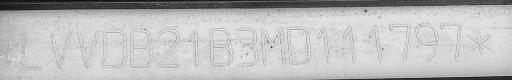letter: (128, 27, 156, 70), (256, 26, 286, 66), (20, 26, 46, 72), (207, 26, 235, 68), (100, 27, 128, 69), (412, 21, 440, 62), (285, 23, 313, 64), (232, 24, 258, 67), (156, 26, 182, 69), (75, 28, 101, 70), (439, 20, 465, 62), (48, 28, 74, 69), (386, 21, 412, 60), (338, 22, 360, 63), (365, 23, 385, 62), (184, 27, 202, 67), (316, 25, 334, 65)
